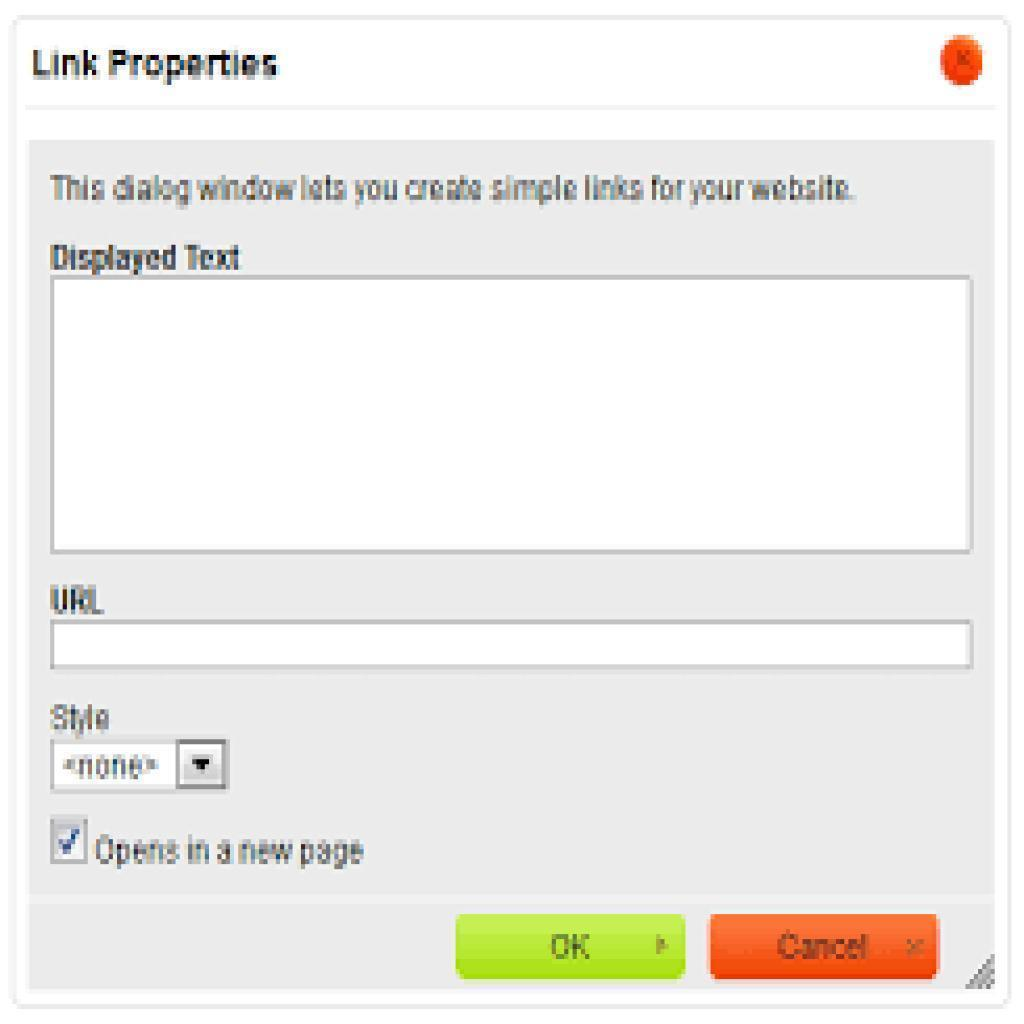button: (709, 914, 944, 978), (455, 916, 683, 977)
checkbox: (50, 813, 89, 864)
dropdown: (53, 742, 225, 789)
